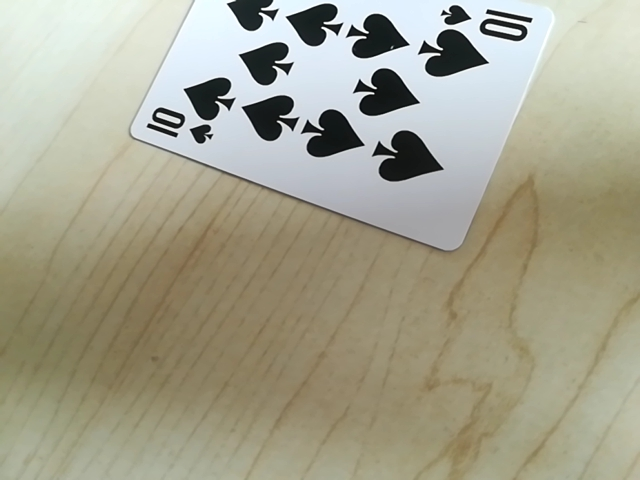ht 10: (433, 0, 546, 38), (138, 108, 218, 149)
